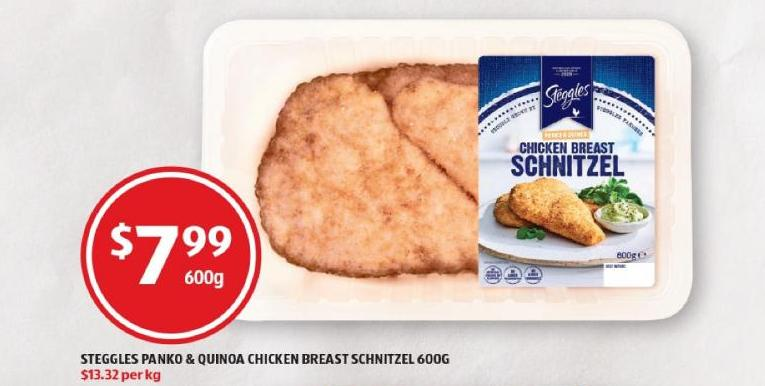description_block: (73, 344, 457, 371)
price_main: (80, 167, 262, 342)
product_image_block: (196, 16, 702, 336)
unit_price_block: (74, 365, 166, 385)
